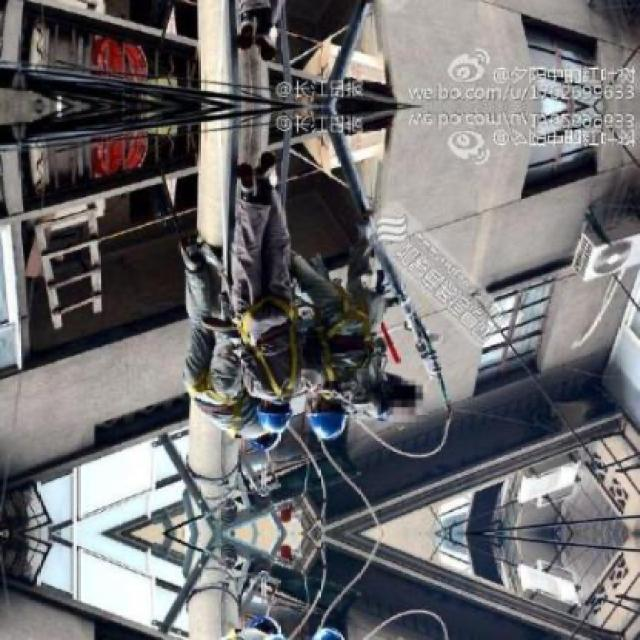con casco: (282, 385, 374, 447), (239, 384, 290, 441)
